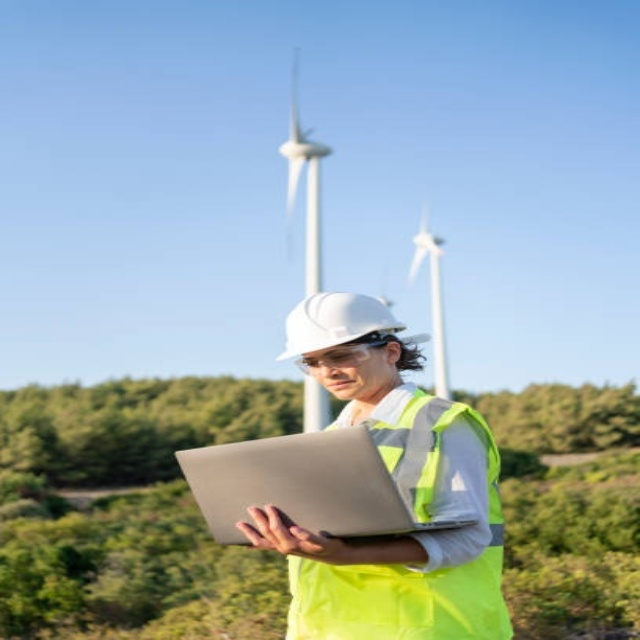Gafas: (294, 341, 388, 376)
Sin_guantes: (236, 505, 336, 561)
Sin_mascara: (318, 373, 367, 398)
